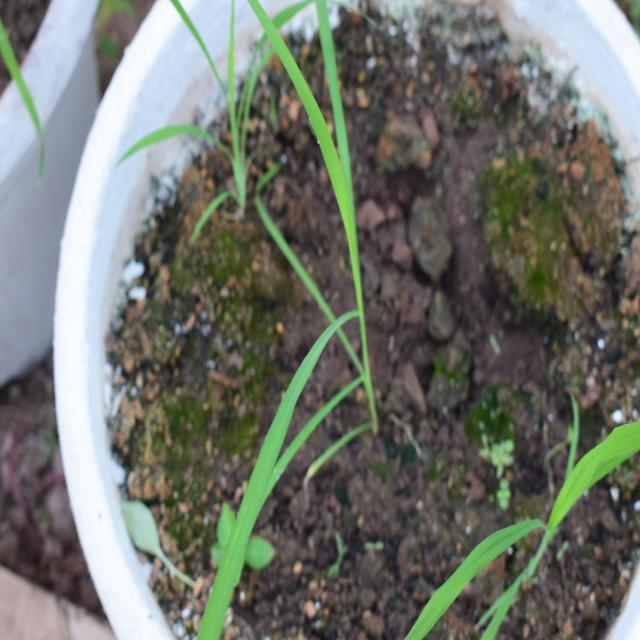barnyard_grass: (189, 26, 421, 516)
